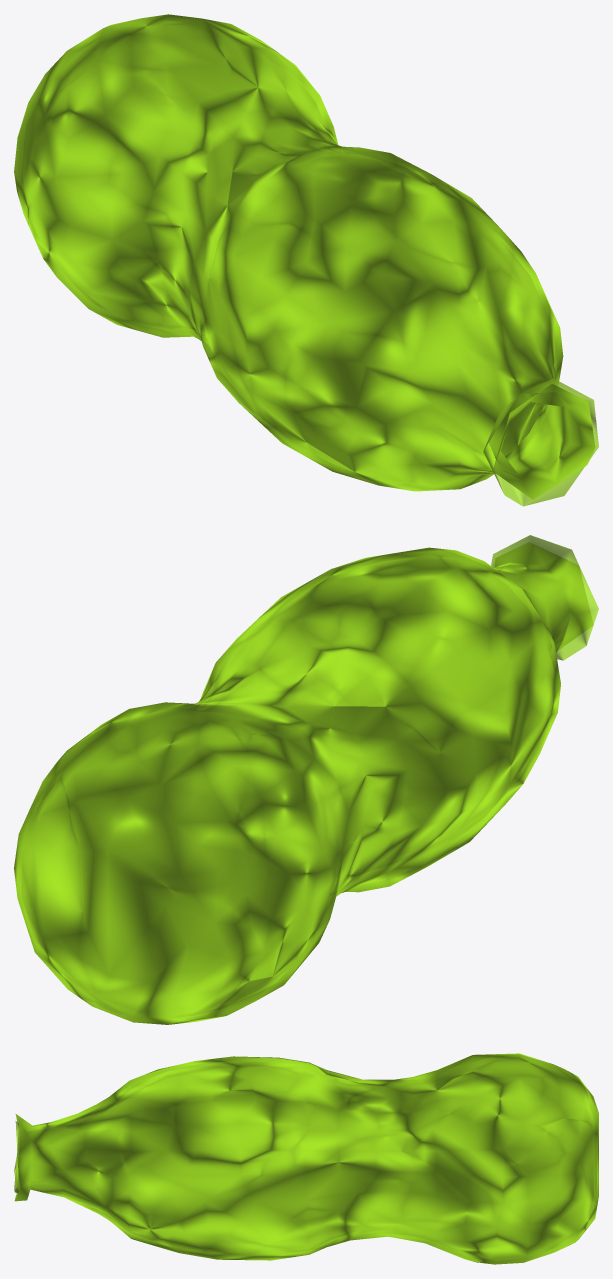
File: model_align.obj
3 views of the same model, one above another, from view 1: azimuth 30°, elevation 25°; view 2: azimuth 150°, elevation 25°; view 3: azimuth 270°, elevation 25° (orthographic). The views are drawn at different scales.
Size of the model in its own units: 0.0837 by 0.0825 by 0.2288.
